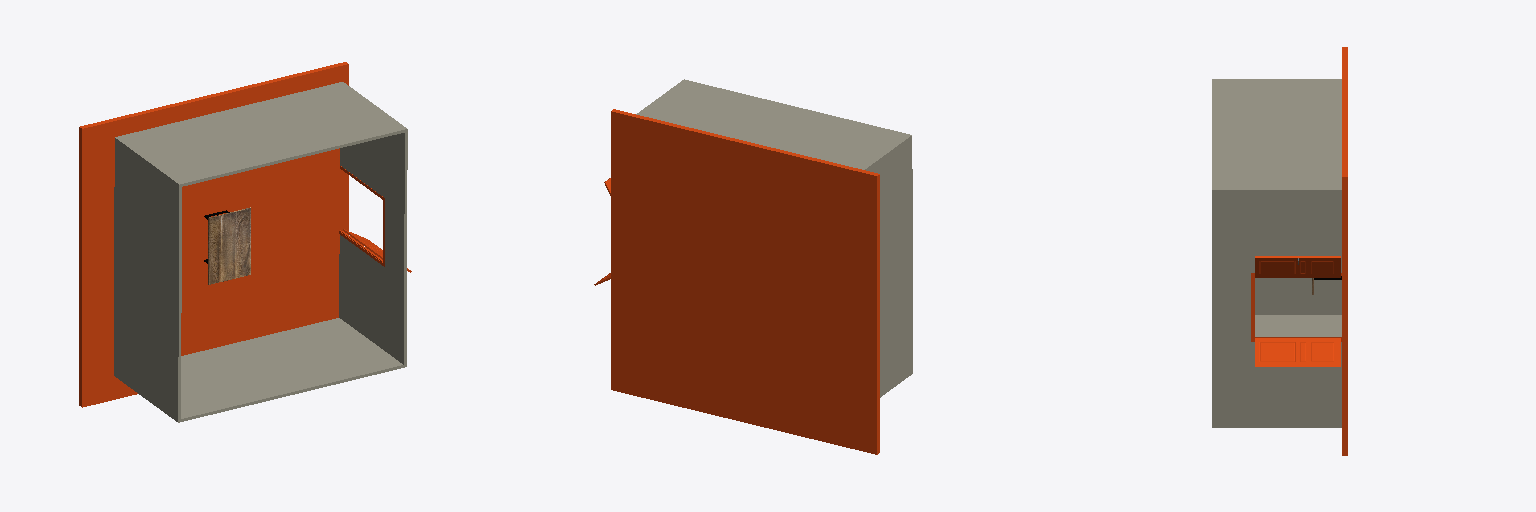
3 renders of one model, left to right at view 1: azimuth 30°, elevation 25°; view 2: azimuth 150°, elevation 25°; view 3: azimuth 270°, elevation 25°, orthographic.
Parts seen in each view (by area): view 1: Object_1, Cube, Object_0.001, Object_4; view 2: Cube, Object_1; view 3: Object_1, Object_7, Cube.
Boxes of the visible parts, <box> form: Object_1: <box>114,82,407,422</box>; Cube: <box>79,62,348,407</box>; Object_0.001: <box>208,207,250,284</box>; Object_4: <box>339,166,384,266</box>; Cube: <box>611,109,879,454</box>; Object_1: <box>636,79,912,397</box>; Object_1: <box>1212,79,1341,427</box>; Object_7: <box>1255,256,1340,366</box>; Cube: <box>1342,47,1347,455</box>.
Bounding box in the file's own units: 5.37 × 5 × 2.2.
Materials: 6 (1 with a texture image).